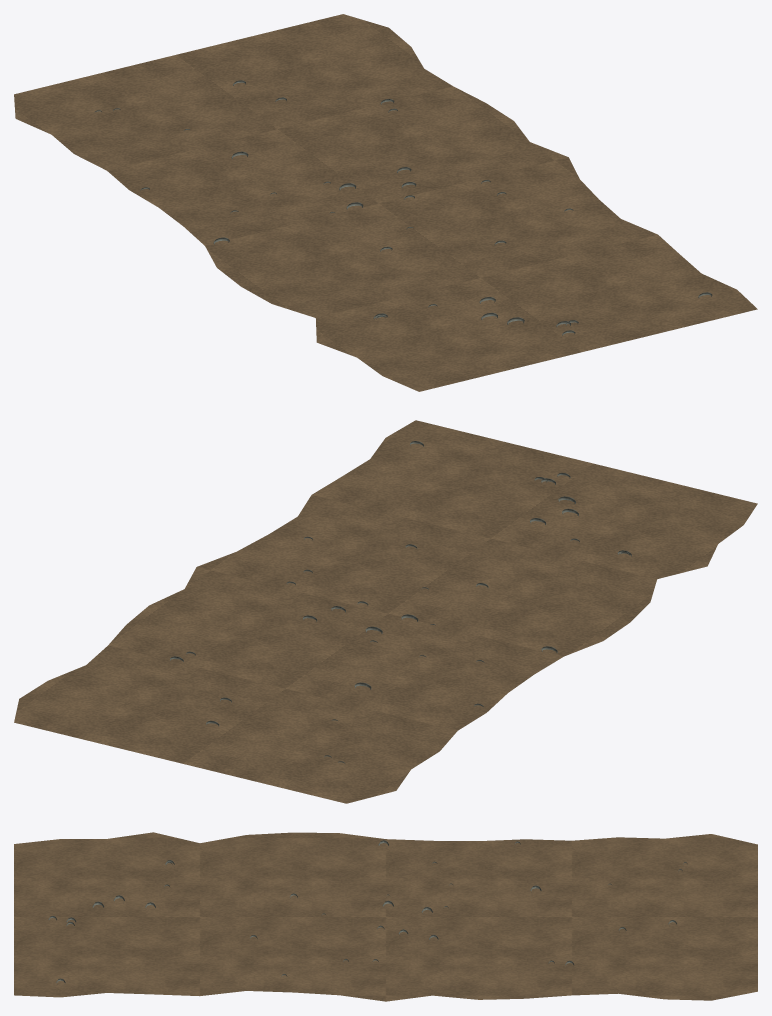
The model's file is path_straight_4m.glb.
3 renders of one model, top to bottom at view 1: azimuth 30°, elevation 25°; view 2: azimuth 150°, elevation 25°; view 3: azimuth 270°, elevation 25°, orthographic. The views are drawn at different scales.
Parts seen in each view (by area): view 1: path_straight_4m_Mesh; view 2: path_straight_4m_Mesh; view 3: path_straight_4m_Mesh.
Boxes of the visible parts, box(x1,y1,x2,y2) form: path_straight_4m_Mesh: box(14, 14, 757, 391); path_straight_4m_Mesh: box(14, 420, 757, 803); path_straight_4m_Mesh: box(14, 832, 757, 1001).
Bounding box in the file's own units: 2.15 × 0.0398 × 4.
Materials: 2 (2 with a texture image).
